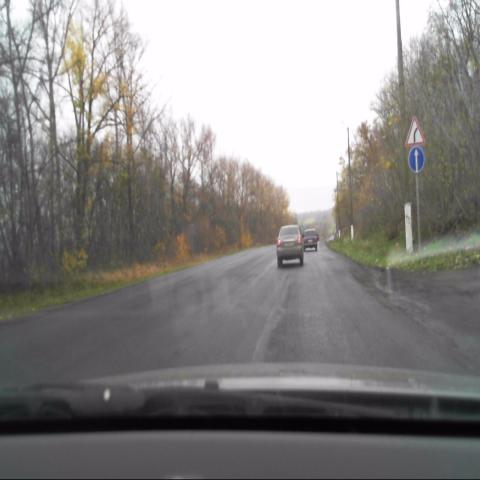1_11: (405, 117, 425, 145)
